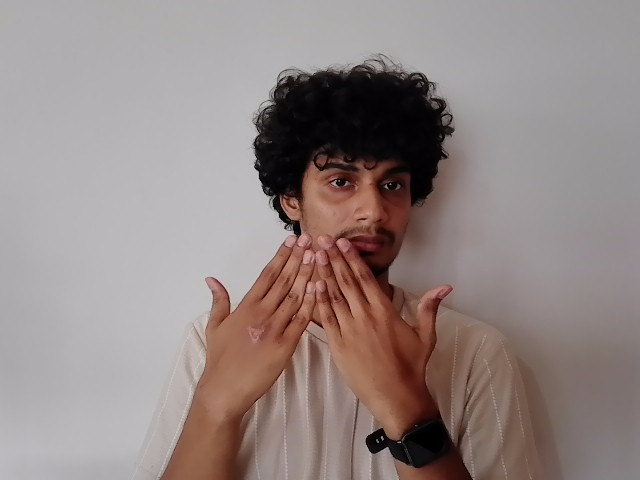thankyou: (185, 222, 463, 414)
